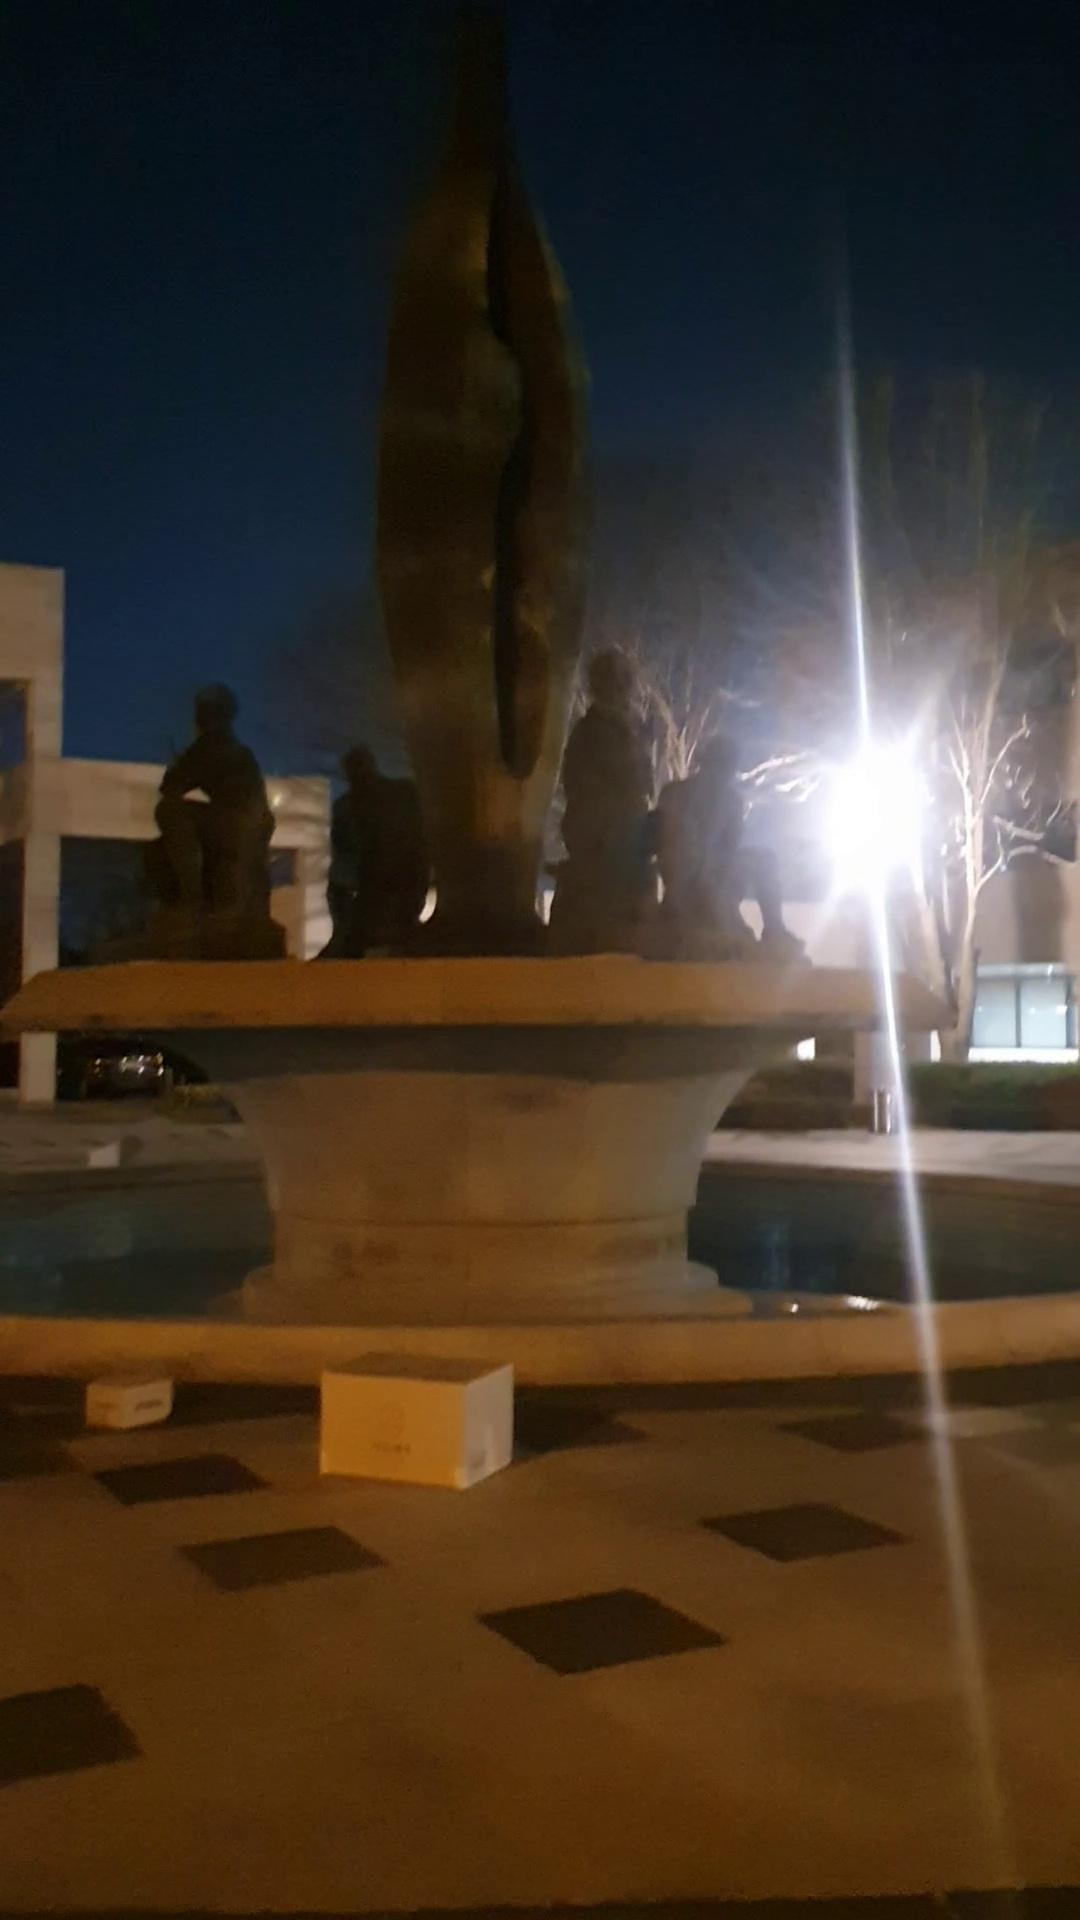Box: (298, 1340, 527, 1497), (66, 1358, 185, 1435)
